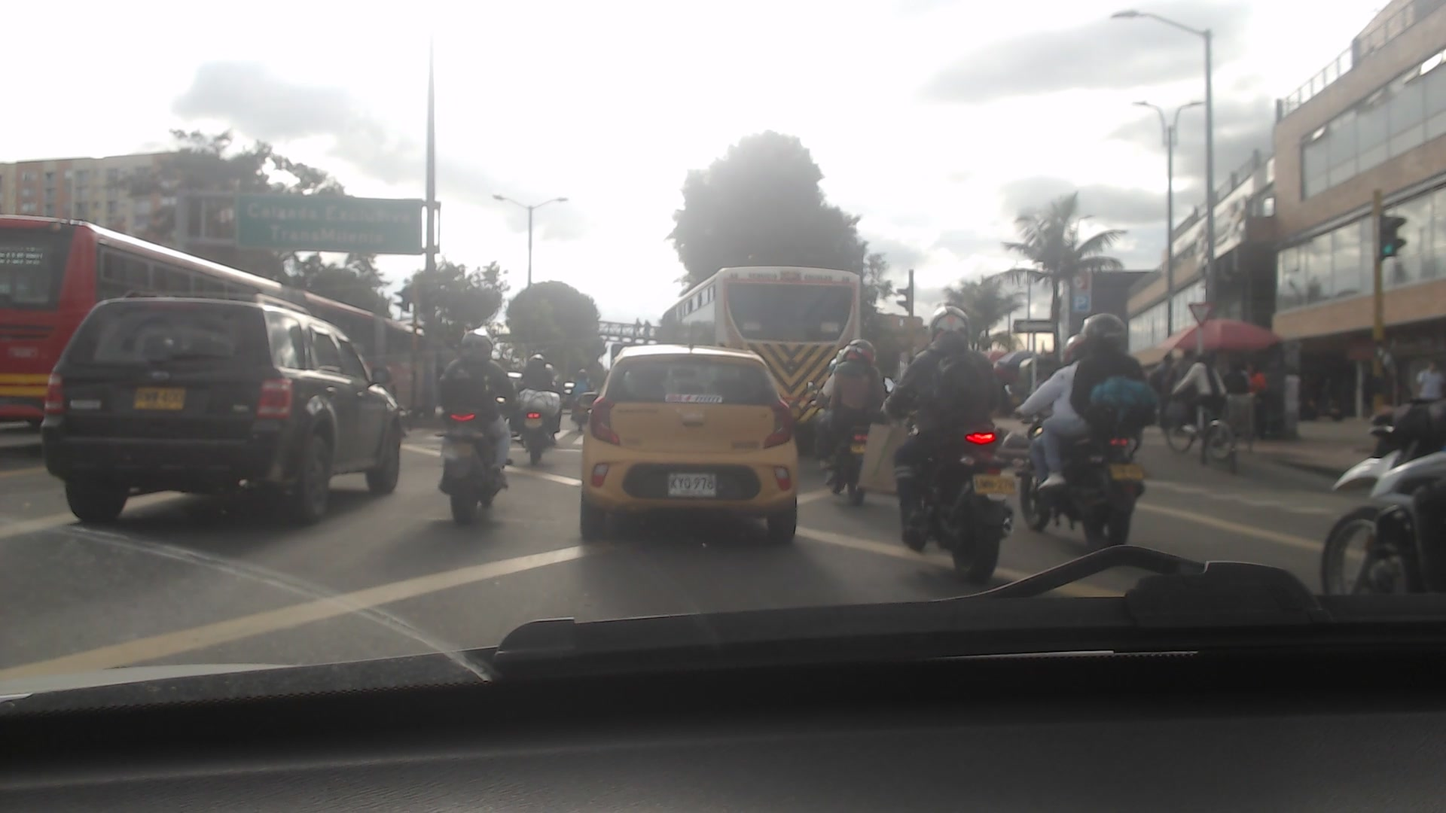car: (41, 294, 405, 520), (575, 342, 799, 548)
motorcycle: (883, 404, 1012, 585), (1009, 396, 1144, 558), (426, 401, 512, 529), (813, 414, 875, 502), (518, 402, 560, 466)
person: (898, 304, 1007, 461), (1060, 310, 1162, 449), (434, 327, 517, 488), (1022, 322, 1091, 459), (819, 339, 892, 438), (517, 351, 558, 427)
